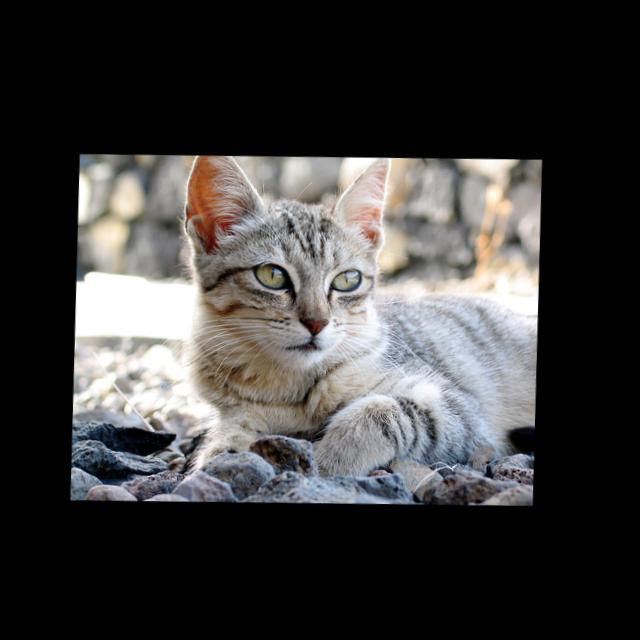animals: (193, 151, 389, 335)
